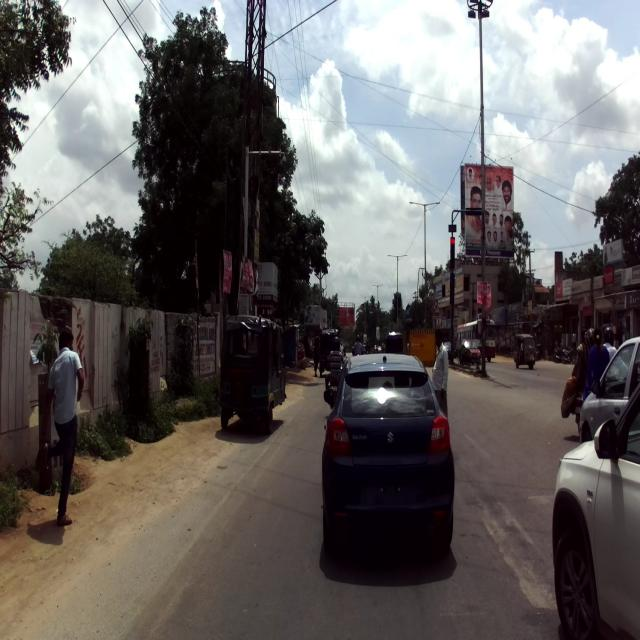Car_Maruti-Suzuki: (321, 350, 456, 554)
autorickshaw: (219, 315, 287, 438)
